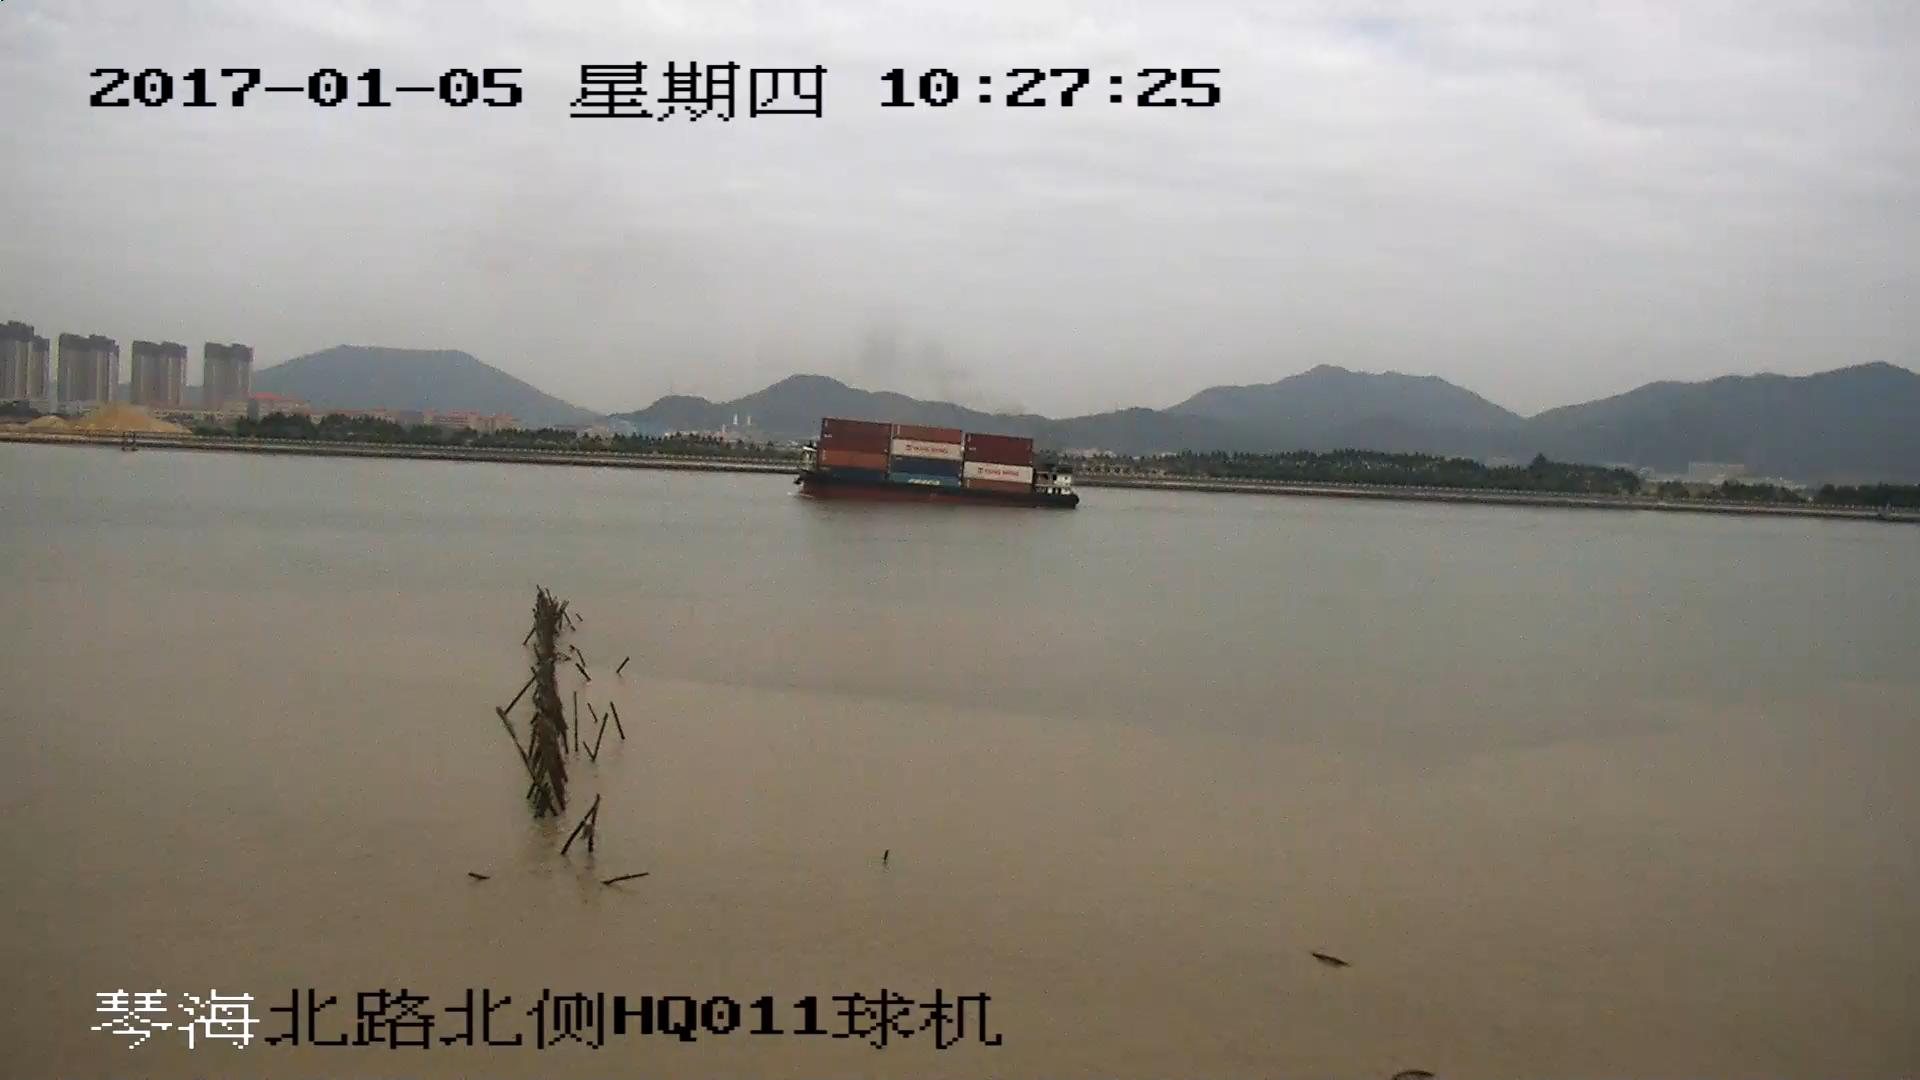container ship: (791, 419, 1077, 513)
